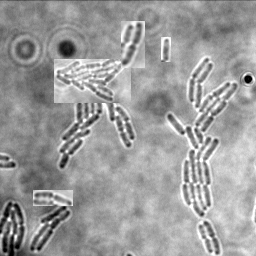Dividing: (121, 21, 145, 68), (204, 219, 222, 255), (33, 190, 73, 206), (199, 223, 215, 253), (161, 37, 171, 62)
Microcolony: (167, 57, 238, 216), (59, 75, 136, 169), (54, 59, 131, 103), (30, 204, 72, 251), (1, 200, 26, 255)
